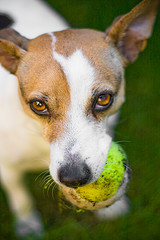tennis ball: (59, 140, 130, 209)
